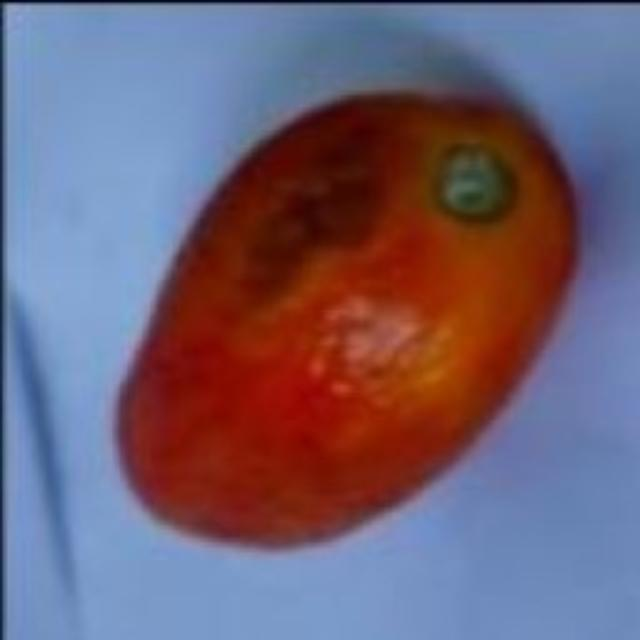defect: (108, 84, 583, 561)
